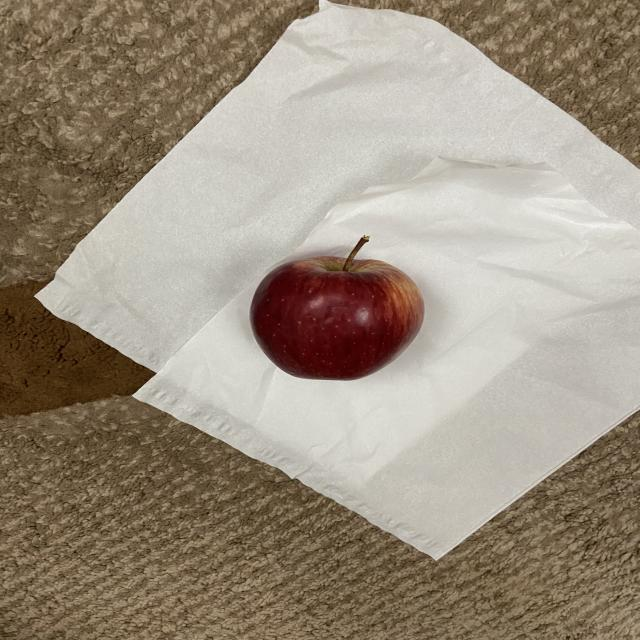apple: (248, 230, 428, 384)
